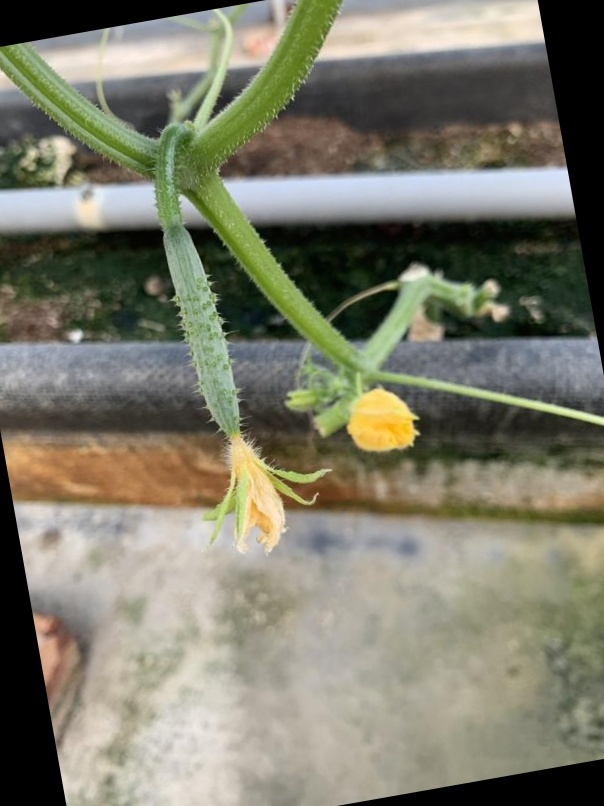bear: (142, 195, 326, 559)
